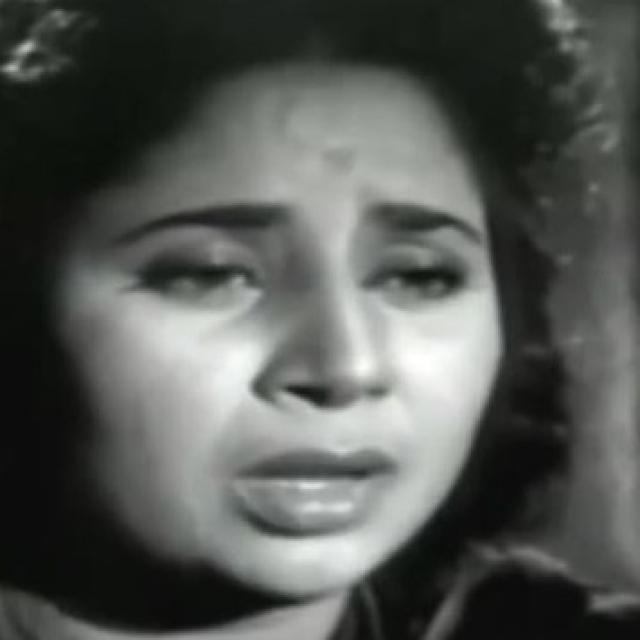Depress: (38, 52, 508, 603)
